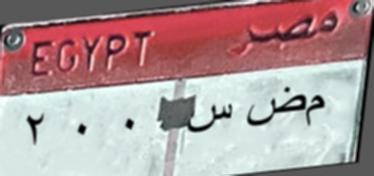0: (72, 118, 92, 144), (120, 116, 139, 136)
2: (22, 108, 50, 154)
daad: (245, 86, 306, 134)
meem: (306, 87, 326, 132)
seen: (184, 98, 234, 140)
